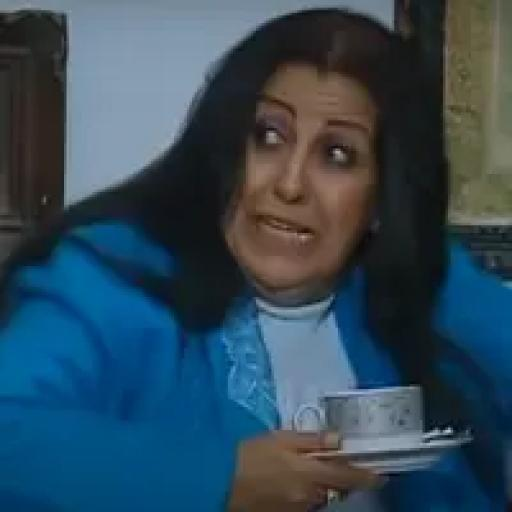jannet: (141, 8, 443, 297)
